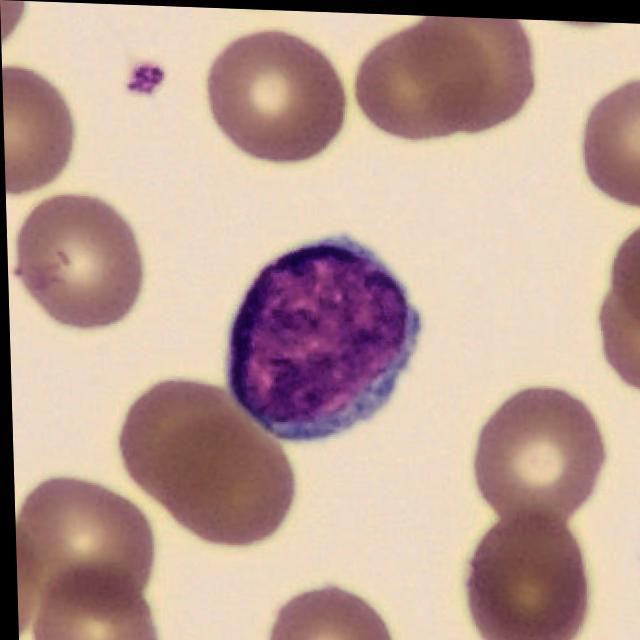Linfocito: (224, 232, 419, 441)
